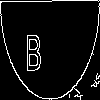B: (25, 25, 42, 71)
